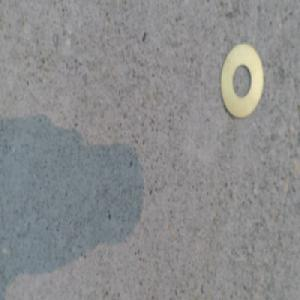Washer: (216, 47, 262, 122)
